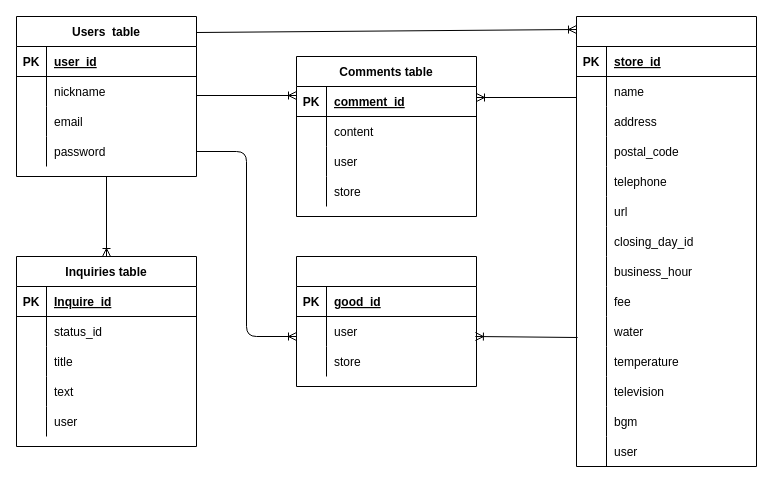
Image size: 773x483. Some labels were removed from this diagram. Each missing label, with the box of its shape:
Goods table: (296, 256, 476, 386)
Stores table: (576, 16, 756, 466)
